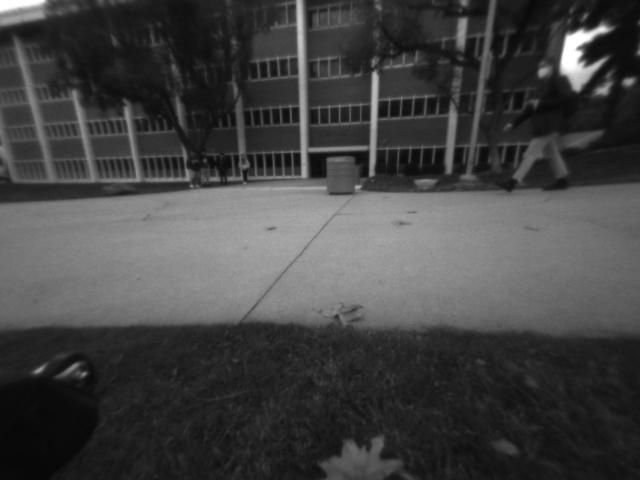trashcan: (321, 153, 361, 200)
